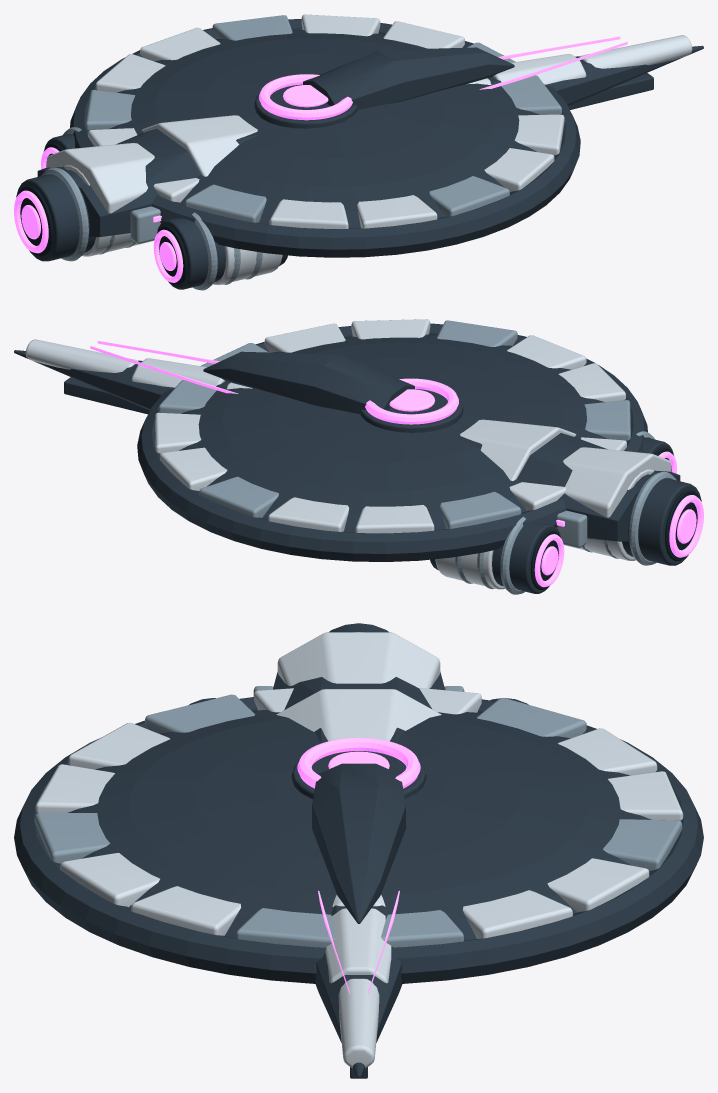
File: ship-04.glb
3 views of the same model, one above another, from view 1: azimuth 30°, elevation 25°; view 2: azimuth 150°, elevation 25°; view 3: azimuth 270°, elevation 25° (orthographic). The views are drawn at different scales.
Visible parts, largest first — view 1: Graphite frame, Ceramic titanium, Machined silver, Ion violet, Carbon insets; view 2: Graphite frame, Ceramic titanium, Machined silver, Ion violet, Carbon insets; view 3: Graphite frame, Ceramic titanium, Machined silver, Ion violet.
Boxes of the visible parts, x1,y1,x2,y2 form: Graphite frame: [16, 19, 703, 289]; Ceramic titanium: [47, 14, 692, 284]; Machined silver: [41, 15, 561, 290]; Ion violet: [14, 36, 627, 282]; Carbon insets: [17, 143, 187, 285]; Graphite frame: [14, 323, 701, 593]; Ceramic titanium: [25, 319, 670, 589]; Machined silver: [158, 320, 676, 594]; Ion violet: [90, 341, 703, 587]; Carbon insets: [530, 447, 700, 589]; Graphite frame: [14, 623, 703, 1078]; Ceramic titanium: [35, 632, 683, 1068]; Machined silver: [34, 632, 682, 947]; Ion violet: [297, 737, 420, 994].
Size of the model in its own units: 6 by 1.11 by 4.12.
